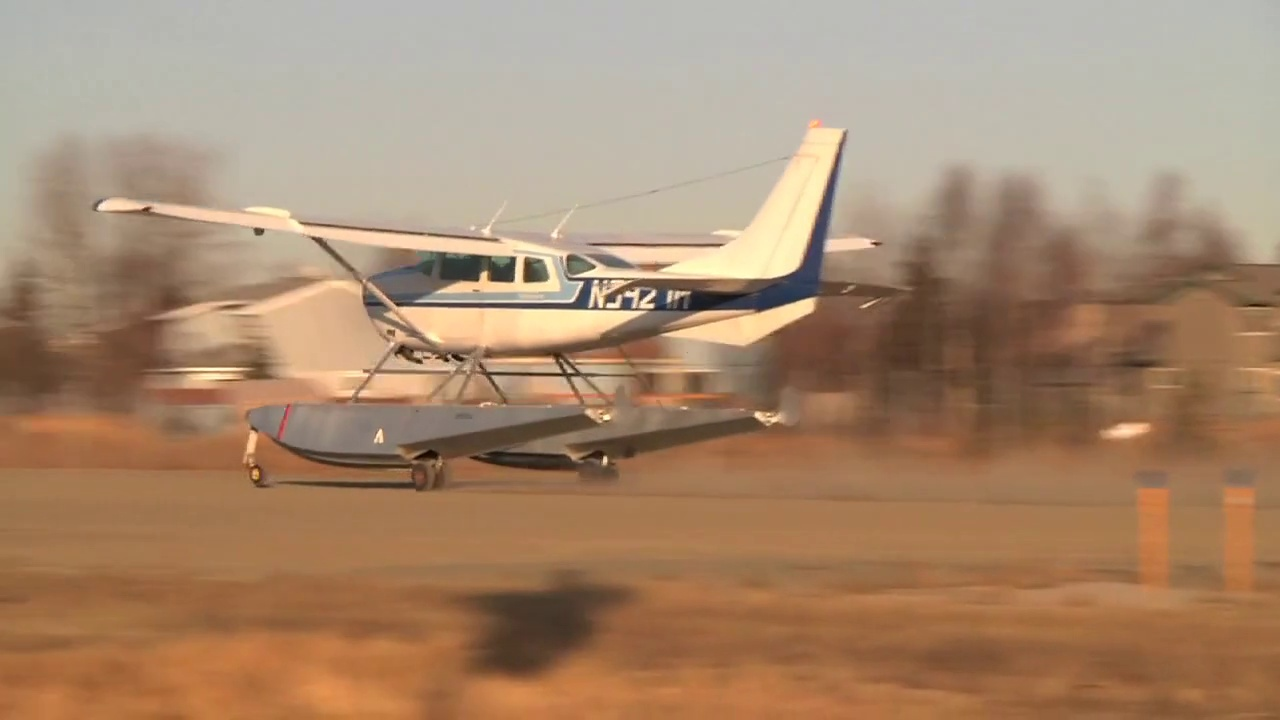plane: (91, 117, 914, 487)
